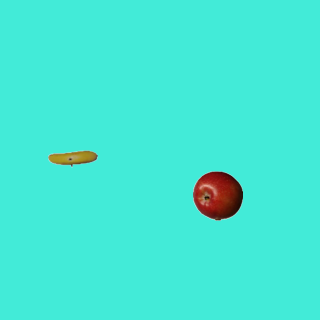Apple Braeburn: (192, 170, 242, 220)
Banana: (47, 133, 97, 183)
